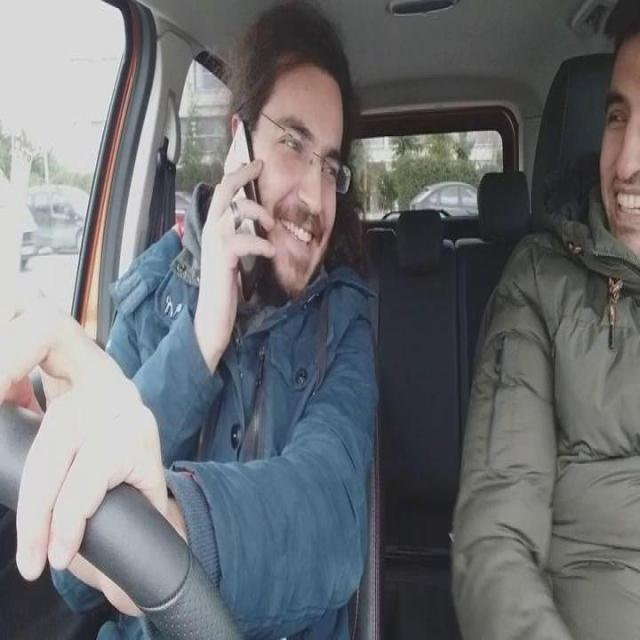phone: (221, 120, 265, 292)
